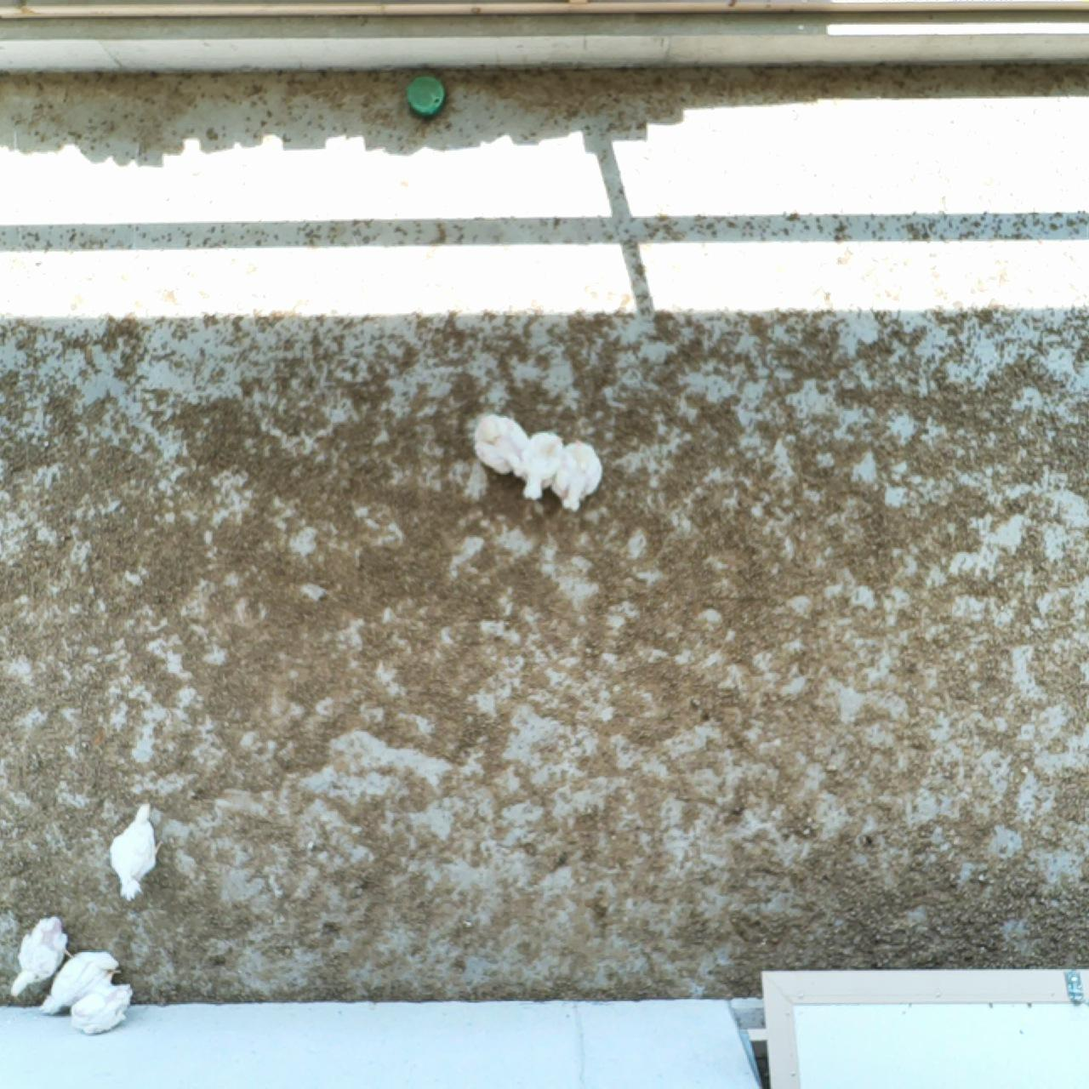chicken: (107, 793, 172, 909), (36, 944, 123, 1020), (9, 907, 73, 1001), (546, 432, 603, 515), (515, 425, 568, 514), (468, 408, 532, 477), (65, 975, 136, 1036)
